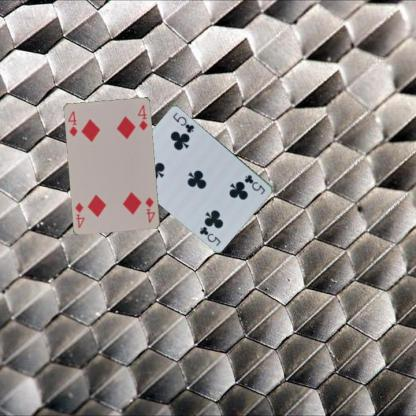4d: (143, 195, 156, 224), (66, 109, 79, 138)
5c: (242, 172, 266, 196)
